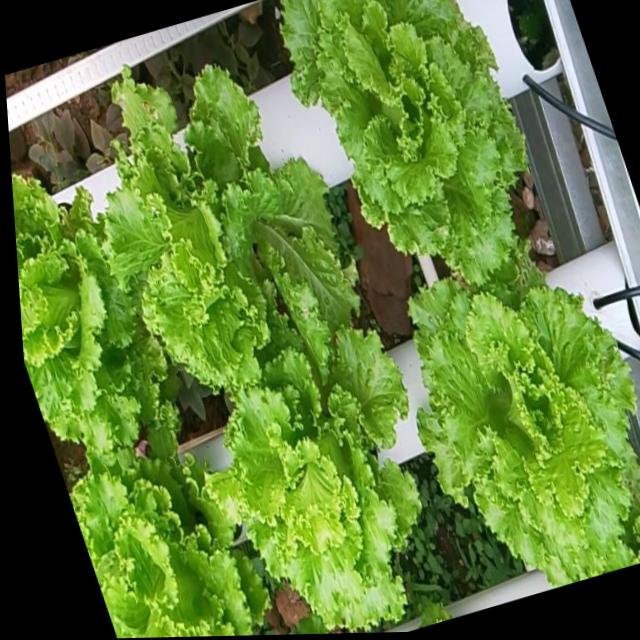Mature: (102, 67, 361, 396), (410, 249, 640, 587), (282, 0, 529, 284), (212, 310, 423, 631), (12, 176, 165, 445), (71, 449, 267, 638)
